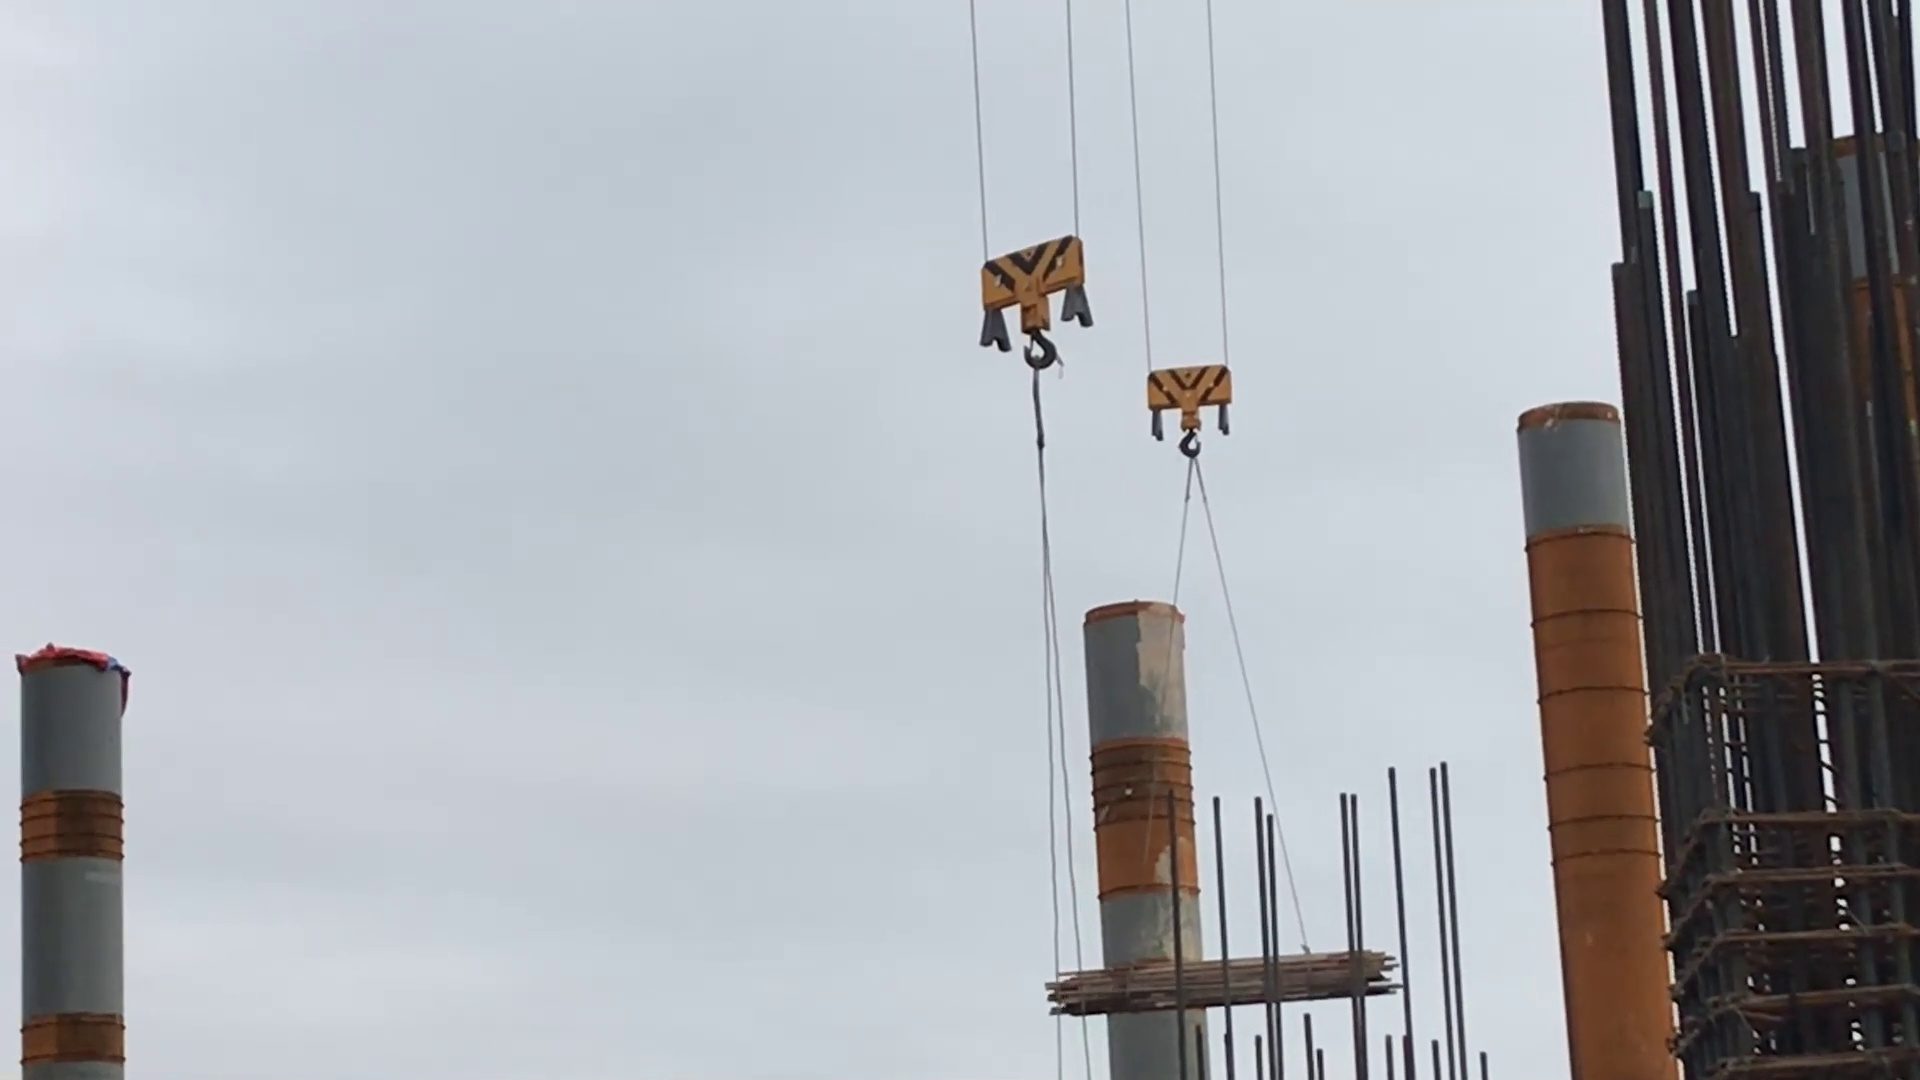hook: (967, 224, 1108, 400), (1131, 361, 1244, 475)
wood: (1040, 938, 1403, 1025)
